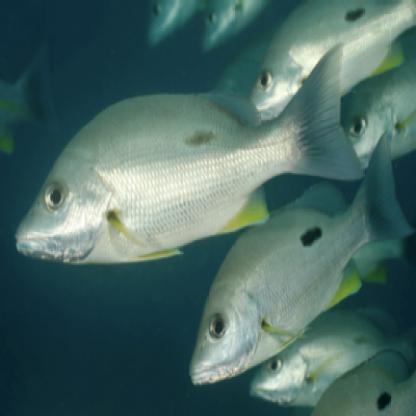Lutjanidae -Snappers-: (12, 42, 371, 268), (186, 129, 416, 395)
